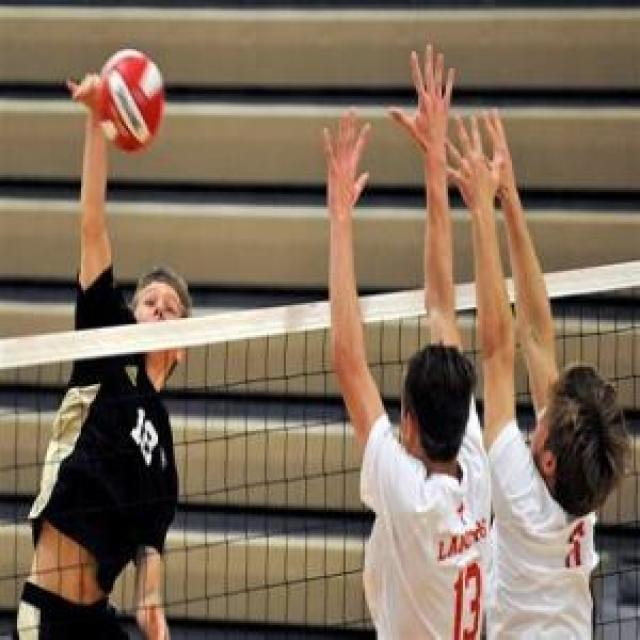volleyball: (97, 47, 165, 149)
